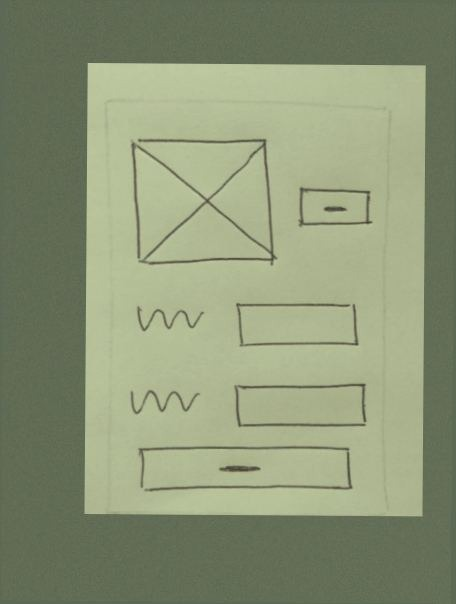button: (133, 442, 357, 501), (292, 174, 378, 234)
image: (124, 135, 284, 276)
text: (125, 380, 205, 430), (128, 297, 207, 343)
text_input: (230, 377, 372, 436), (232, 295, 365, 352)
